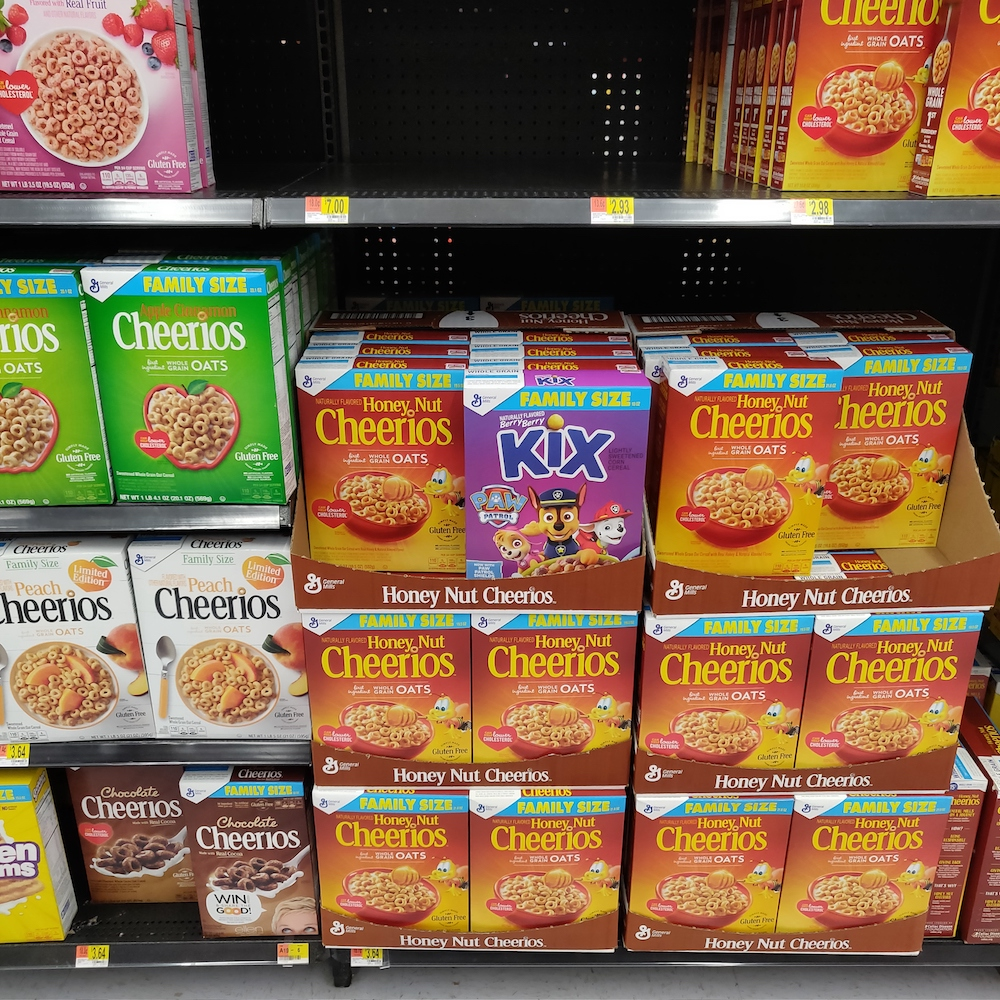Kix Berry -568919964: (471, 394, 649, 578)
